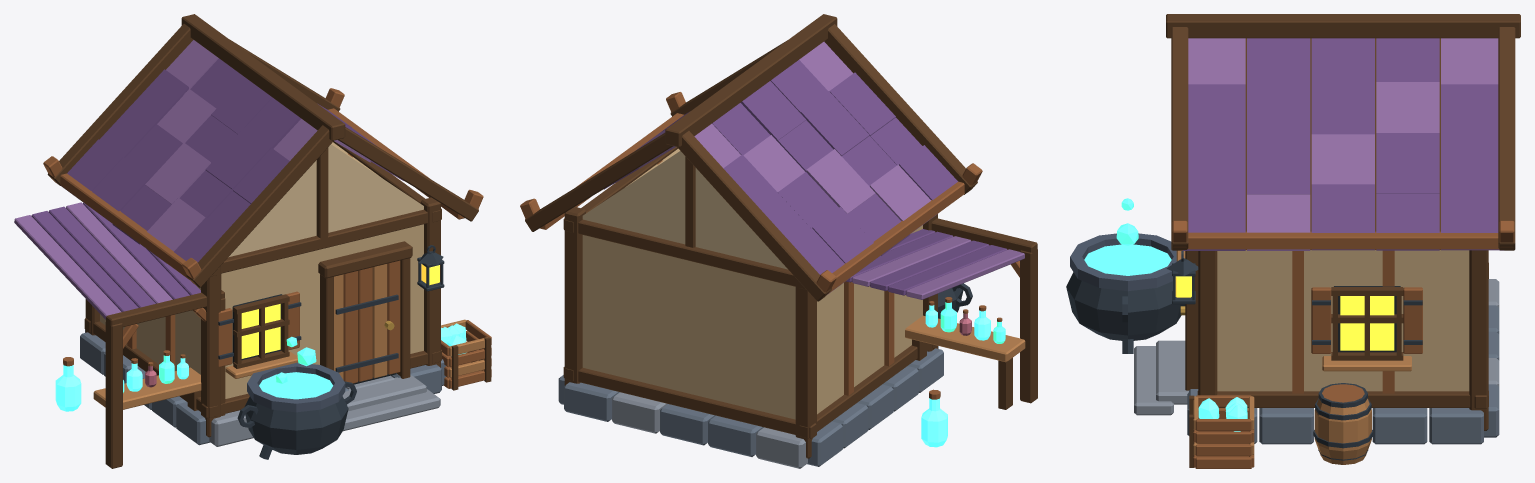
The model's file is Alchemist.glb.
The picture shows the model from 3 angles, left to right: view 1: azimuth 30°, elevation 25°; view 2: azimuth 150°, elevation 25°; view 3: azimuth 270°, elevation 25°; orthographic projection. The views are drawn at different scales.
Parts seen in each view (by area): view 1: Solid plaster shell, Plaster gable, Ridge cap, Cauldron bowl, Bargeboard, Bargeboard.001, Facade horizontal timber.002, Massive corner timber, Canopy support, Bargeboard.002, Thick cauldron rim, Canopy board (+56 smaller); view 2: Solid plaster shell, Plaster gable.001, Ridge cap, Bargeboard.001, Facade horizontal timber.001, Bargeboard, Facade horizontal timber.003, Massive corner timber.001, Massive corner timber.003, Bargeboard.003, Canopy support, Eave fascia (+46 smaller); view 3: Solid plaster shell, Ridge cap, Eave fascia.001, Cauldron bowl, Overlapping roof tile.031, Overlapping roof tile.033, Bargeboard.003, Bargeboard.002, Overlapping roof tile.026, Overlapping roof tile.027, Overlapping roof tile.028, Overlapping roof tile.032 (+43 smaller).
Boxes of the visible parts, x1=… form: Solid plaster shell: x1=100, y1=142, x2=423, y2=398; Plaster gable: x1=228, y1=144, x2=423, y2=257; Ridge cap: x1=181, y1=14, x2=345, y2=140; Cauldron bowl: x1=244, y1=396, x2=348, y2=454; Bargeboard: x1=186, y1=125, x2=333, y2=287; Bargeboard.001: x1=47, y1=24, x2=193, y2=185; Facade horizontal timber.002: x1=221, y1=208, x2=441, y2=273; Massive corner timber: x1=201, y1=266, x2=221, y2=437; Canopy support: x1=105, y1=322, x2=122, y2=468; Bargeboard.002: x1=338, y1=127, x2=478, y2=221; Thick cauldron rim: x1=247, y1=362, x2=345, y2=412; Canopy board: x1=14, y1=215, x2=121, y2=319; Solid plaster shell: x1=582, y1=148, x2=922, y2=419; Plaster gable.001: x1=582, y1=151, x2=787, y2=269; Ridge cap: x1=665, y1=14, x2=837, y2=147; Bargeboard.001: x1=677, y1=131, x2=831, y2=301; Facade horizontal timber.001: x1=563, y1=367, x2=816, y2=438; Bargeboard: x1=824, y1=24, x2=977, y2=194; Facade horizontal timber.003: x1=563, y1=218, x2=795, y2=286; Massive corner timber.001: x1=795, y1=278, x2=816, y2=458; Massive corner timber.003: x1=564, y1=207, x2=585, y2=385; Bargeboard.003: x1=525, y1=133, x2=673, y2=231; Canopy support: x1=1020, y1=249, x2=1037, y2=403; Eave fascia: x1=829, y1=181, x2=964, y2=292; Solid plaster shell: x1=1217, y1=250, x2=1469, y2=391; Ridge cap: x1=1166, y1=14, x2=1520, y2=38; Eave fascia.001: x1=1187, y1=231, x2=1498, y2=249; Cauldron bowl: x1=1066, y1=272, x2=1185, y2=340; Overlapping roof tile.031: x1=1247, y1=133, x2=1310, y2=194; Overlapping roof tile.033: x1=1376, y1=133, x2=1439, y2=193; Bargeboard.003: x1=1498, y1=27, x2=1515, y2=250; Bargeboard.002: x1=1171, y1=27, x2=1188, y2=250; Overlapping roof tile.026: x1=1247, y1=82, x2=1310, y2=133; Overlapping roof tile.027: x1=1311, y1=83, x2=1374, y2=134; Overlapping roof tile.028: x1=1376, y1=82, x2=1439, y2=132; Overlapping roof tile.032: x1=1311, y1=134, x2=1374, y2=184.
Size of the model in its own units: 12.92 by 9.88 by 11.4.
